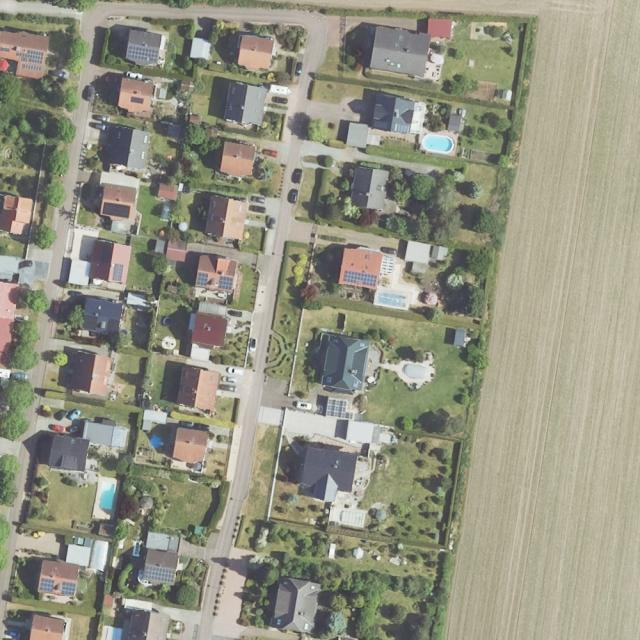PV: (16, 49, 44, 72), (145, 565, 176, 585), (343, 270, 376, 287), (126, 46, 159, 63), (326, 399, 352, 420), (102, 202, 130, 218), (105, 318, 119, 337), (60, 580, 76, 596), (38, 577, 55, 592), (82, 314, 97, 330), (218, 276, 233, 290), (112, 263, 123, 281), (197, 273, 209, 288), (101, 245, 111, 263), (373, 120, 388, 129), (395, 124, 409, 133)
ST: (130, 96, 143, 104), (0, 46, 11, 52)
